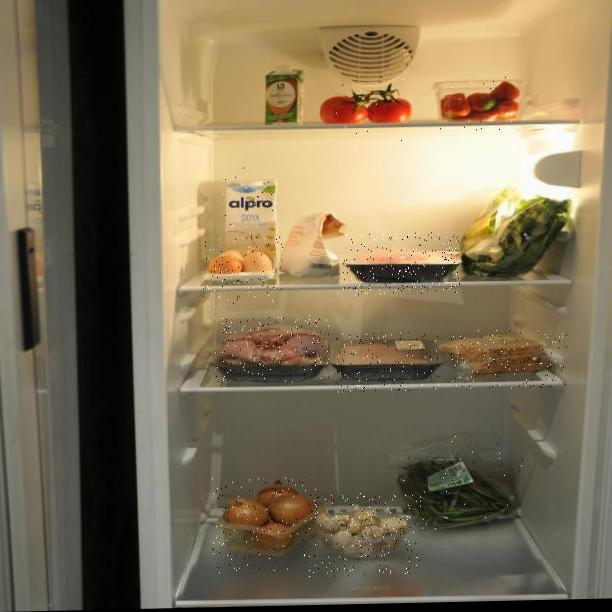bread: (451, 328, 568, 390)
chicken: (215, 315, 329, 384)
eggs: (203, 237, 283, 305)
green beans: (386, 434, 524, 532)
meat: (343, 232, 460, 295), (336, 331, 439, 393)
milk: (221, 167, 281, 261)
mushroom: (309, 492, 423, 577)
onion: (212, 476, 324, 574)
strawberry: (426, 71, 529, 140)
tomatoes: (315, 76, 415, 143)
